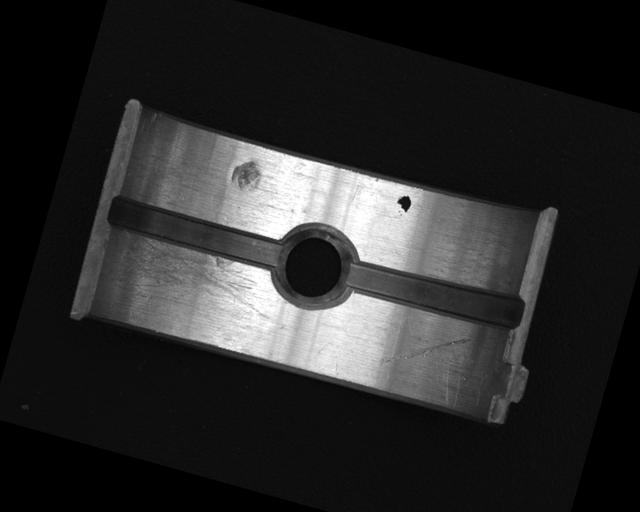blot: (393, 192, 413, 218)
bruise: (228, 156, 267, 195)
gap: (343, 248, 530, 338), (102, 190, 289, 277)
hole: (263, 212, 365, 318)
nick: (378, 314, 472, 387)
scratch: (100, 228, 283, 342)
